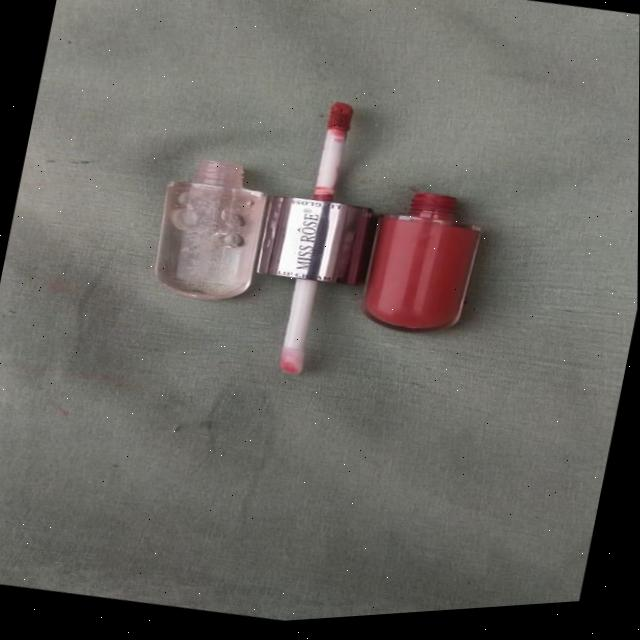lip gloss: (225, 81, 421, 413), (328, 160, 513, 378), (125, 128, 309, 338)
